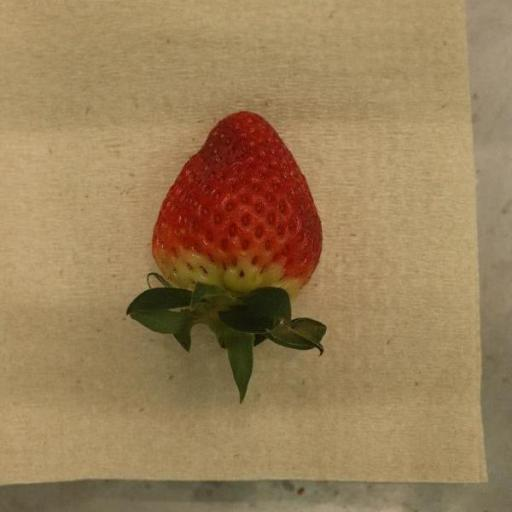Strawberry: (126, 111, 328, 404)
